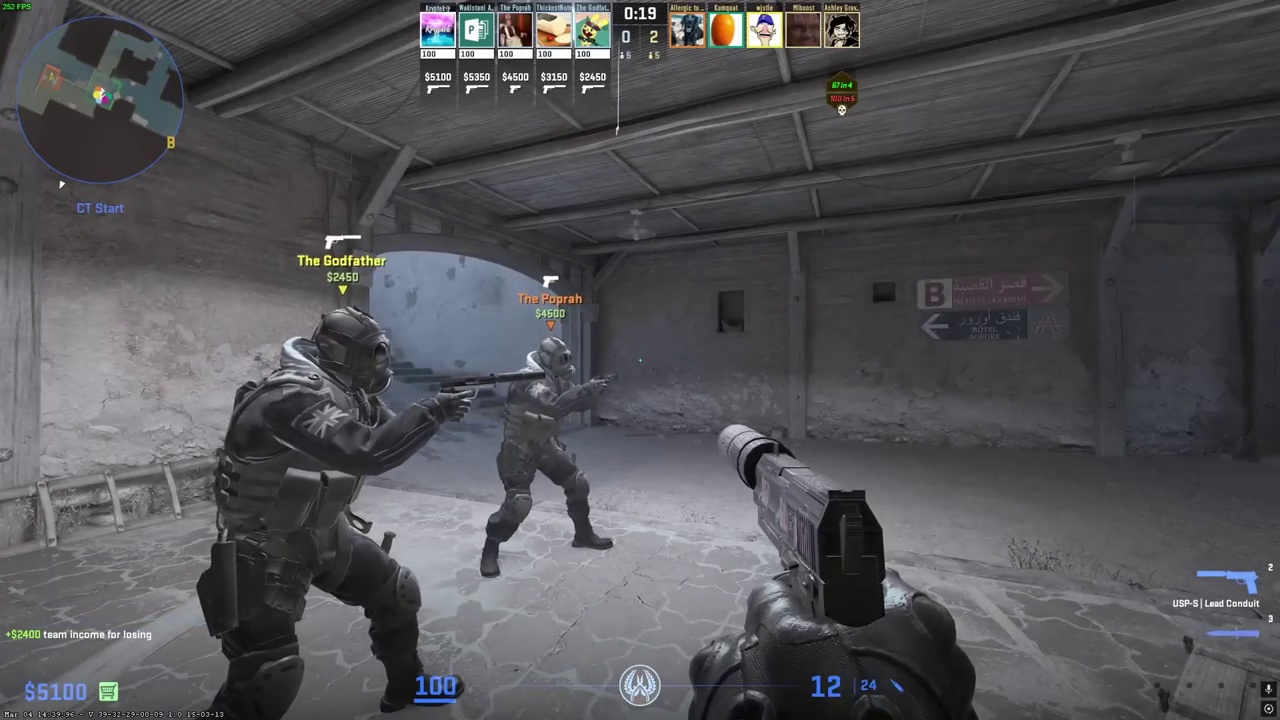CT: (197, 305, 459, 720), (483, 335, 613, 574)
